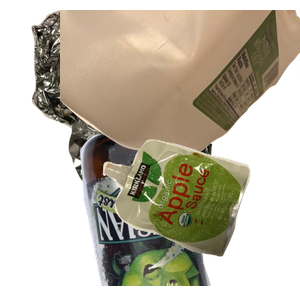glass: (78, 120, 281, 300)
metal: (29, 10, 269, 190)
plastic: (60, 10, 300, 160)
trash: (100, 137, 300, 300)
